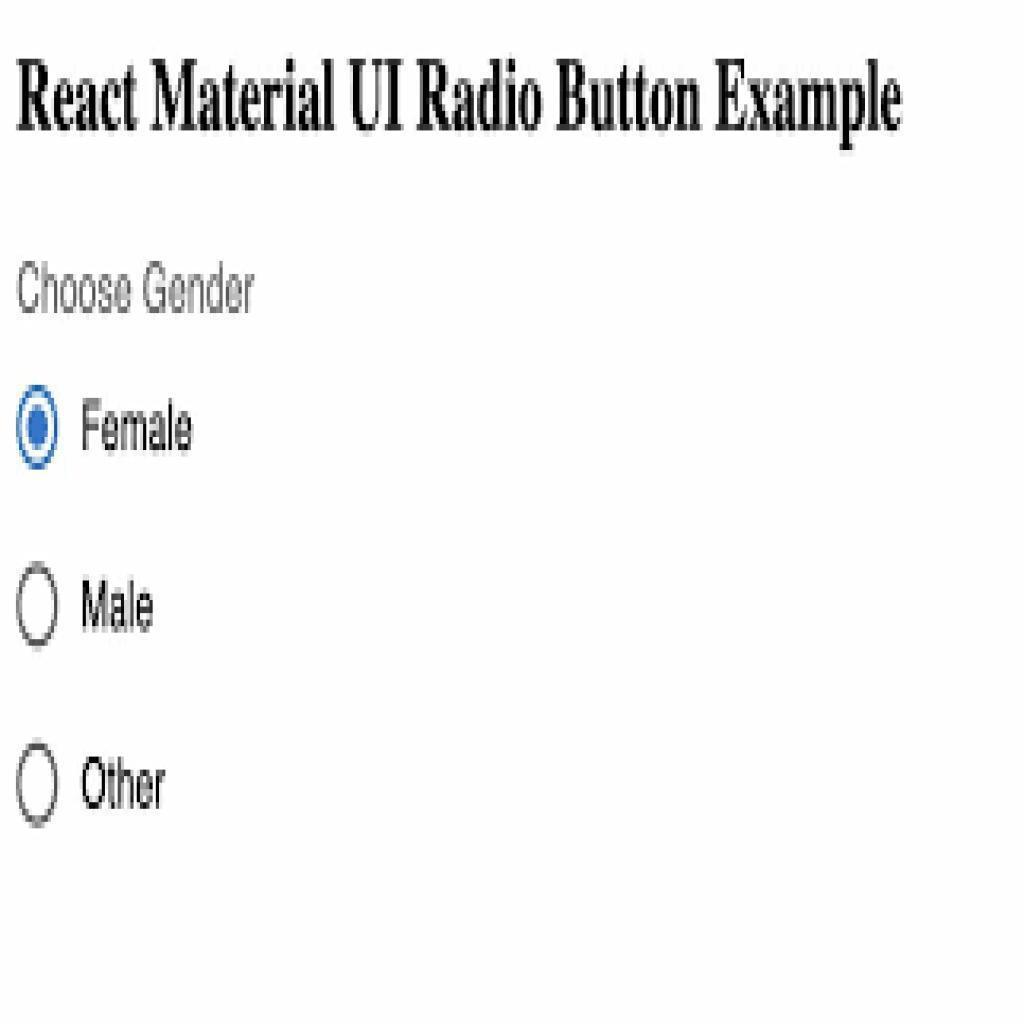radio: (9, 554, 65, 658), (15, 383, 65, 483), (10, 736, 60, 832)
